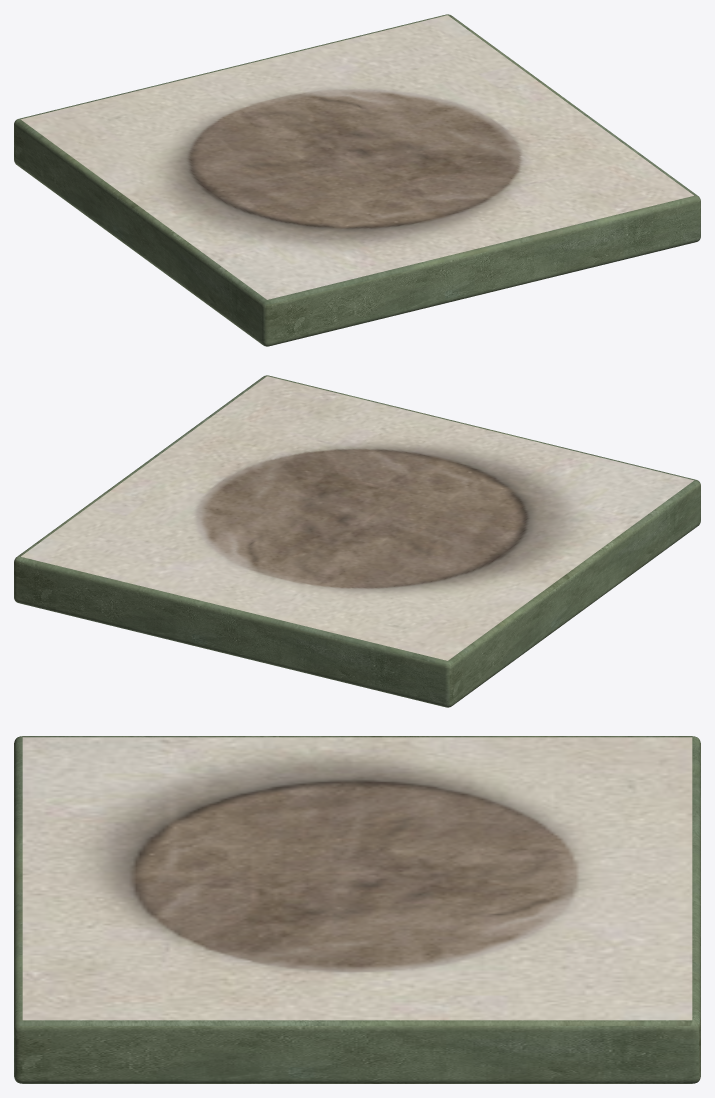
Rendered from tile1.glb.
3 renders of one model, top to bottom at view 1: azimuth 30°, elevation 25°; view 2: azimuth 150°, elevation 25°; view 3: azimuth 270°, elevation 25°, orthographic. The views are drawn at different scales.
Parts seen in each view (by area): view 1: Box001; view 2: Box001; view 3: Box001.
Part boxes in pixels (x1,y1,x2,y2): Box001: (14, 14, 700, 346); Box001: (14, 375, 700, 707); Box001: (14, 736, 700, 1083).
Size of the model in its own units: 0.254 by 0.0254 by 0.254.
2 materials, 2 textured.
